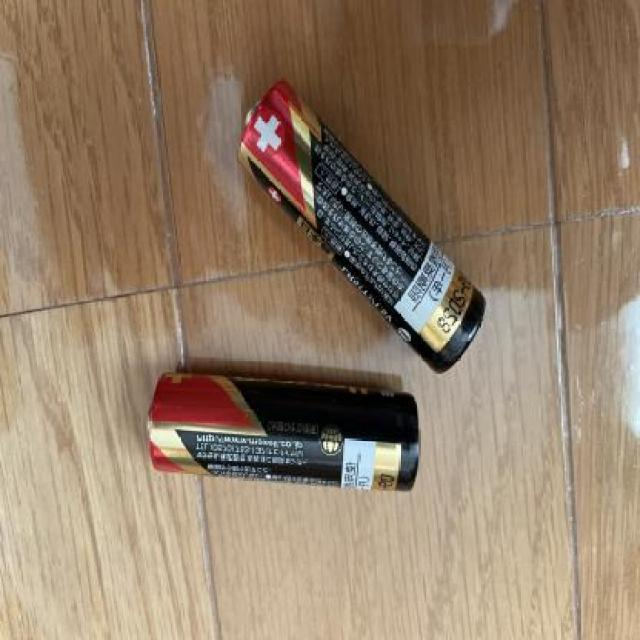AA: (234, 71, 493, 380), (140, 360, 425, 497)
